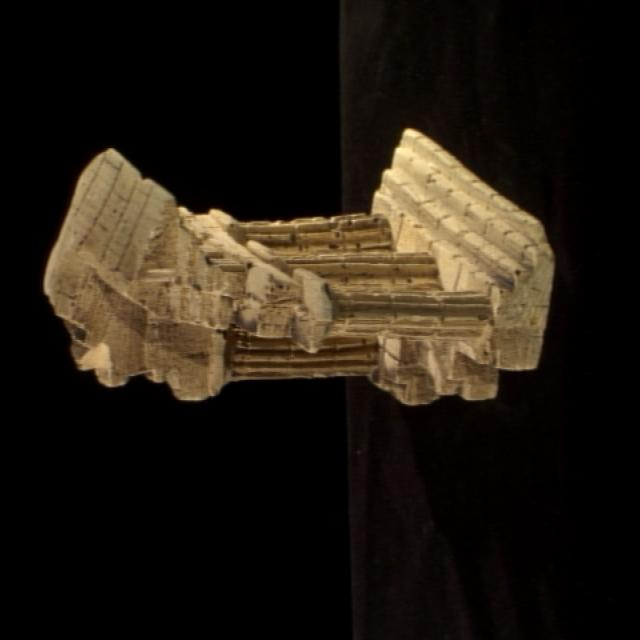Instance-Segmentation: (45, 129, 553, 403)
